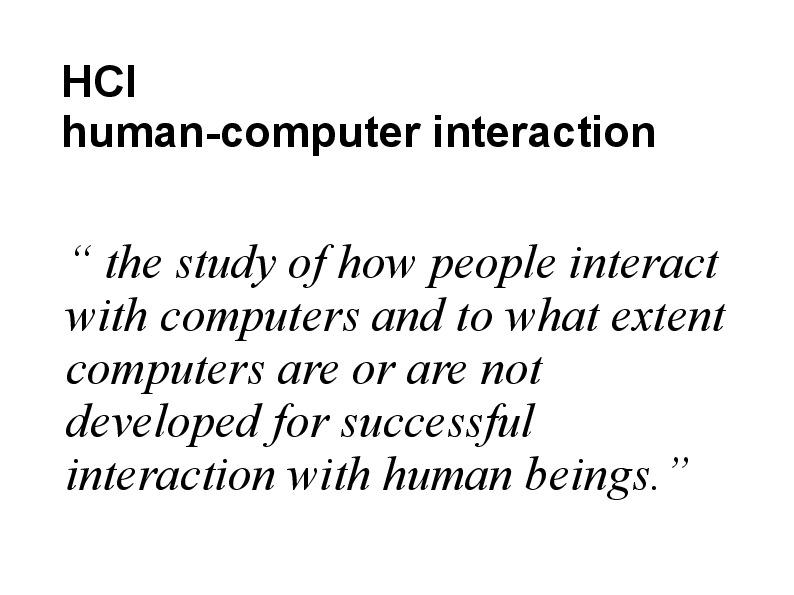paragraph: (54, 216, 759, 516)
title: (51, 44, 677, 164)
